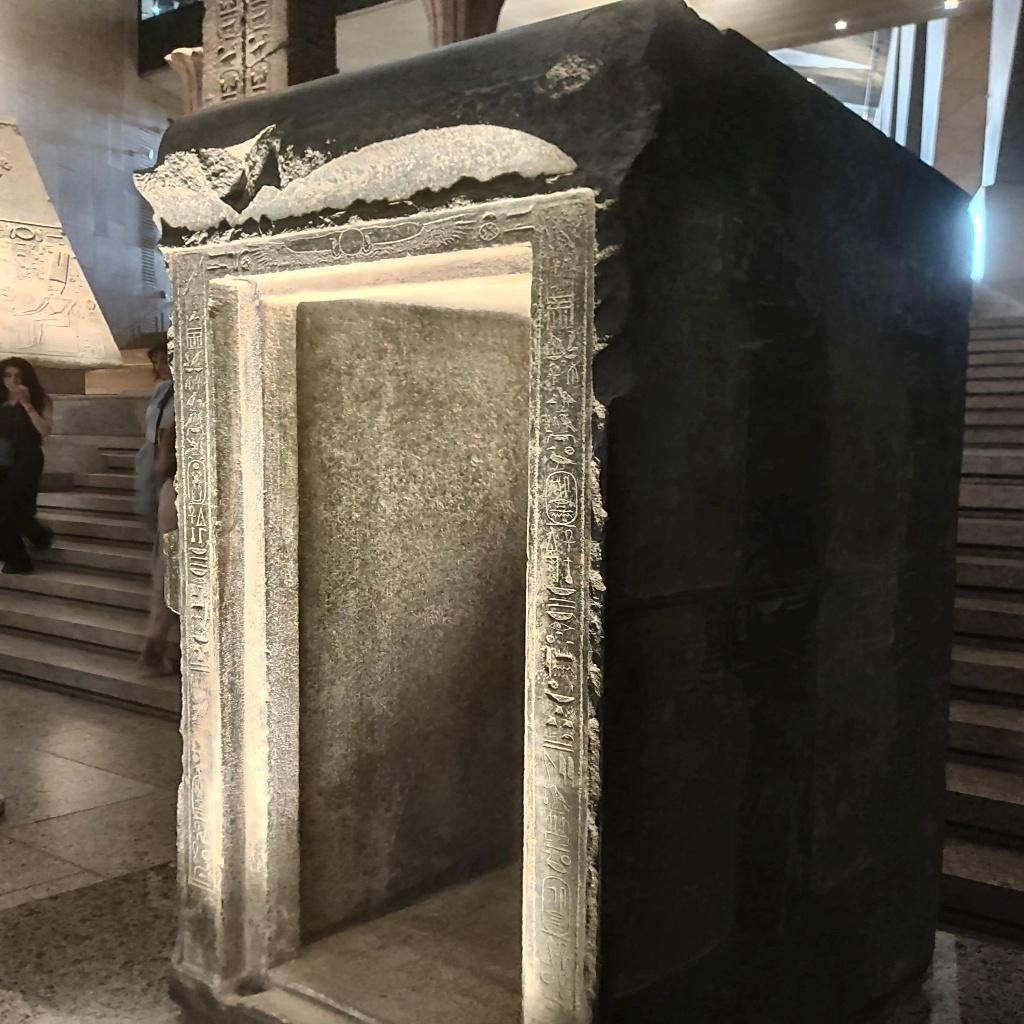Naos of Senwosert I: (144, 5, 974, 1024)
